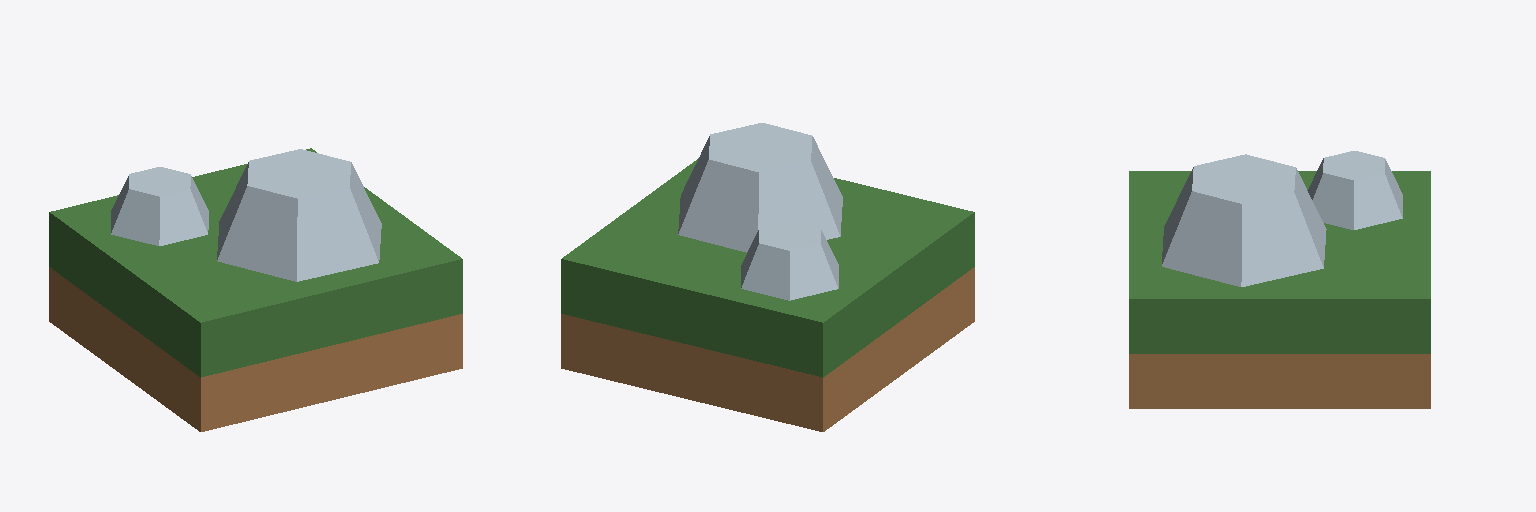
Rendered from tile_073.obj.
3 views of the same model, side by side, from view 1: azimuth 30°, elevation 25°; view 2: azimuth 150°, elevation 25°; view 3: azimuth 270°, elevation 25° (orthographic).
Visible parts, largest first — view 1: tile_073, Group; view 2: tile_073, Group; view 3: tile_073, Group.
Boxes of the visible parts, x1=… form: tile_073: x1=49, y1=148, x2=462, y2=431; Group: x1=111, y1=149, x2=381, y2=281; tile_073: x1=561, y1=158, x2=974, y2=431; Group: x1=678, y1=123, x2=842, y2=300; tile_073: x1=1129, y1=171, x2=1430, y2=408; Group: x1=1162, y1=151, x2=1402, y2=286.
Bounding box in the file's own units: 1 × 0.65 × 1.